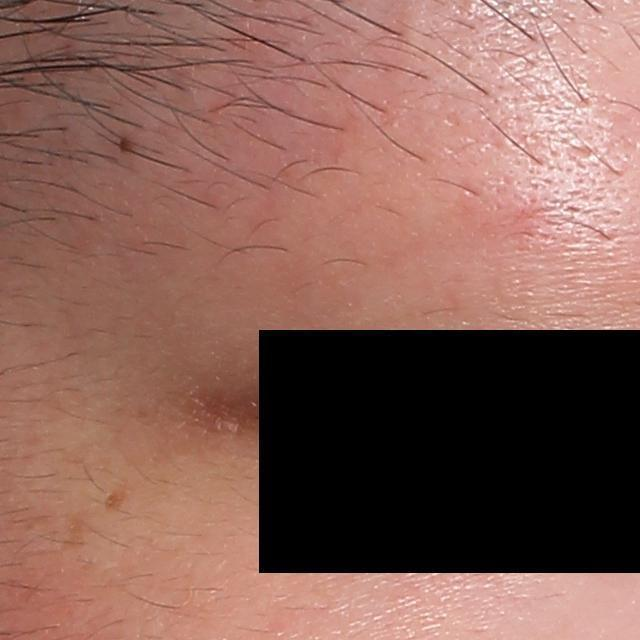nevus: (115, 133, 135, 160)
